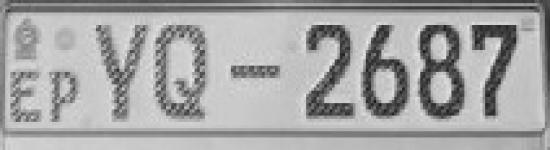-: (228, 57, 282, 91)
2: (295, 16, 360, 123)
6: (363, 18, 414, 123)
7: (472, 20, 523, 122)
8: (413, 18, 467, 123)
E: (6, 67, 44, 125)
P: (47, 68, 84, 125)
Q: (152, 19, 212, 127)
Y: (92, 19, 150, 124)
